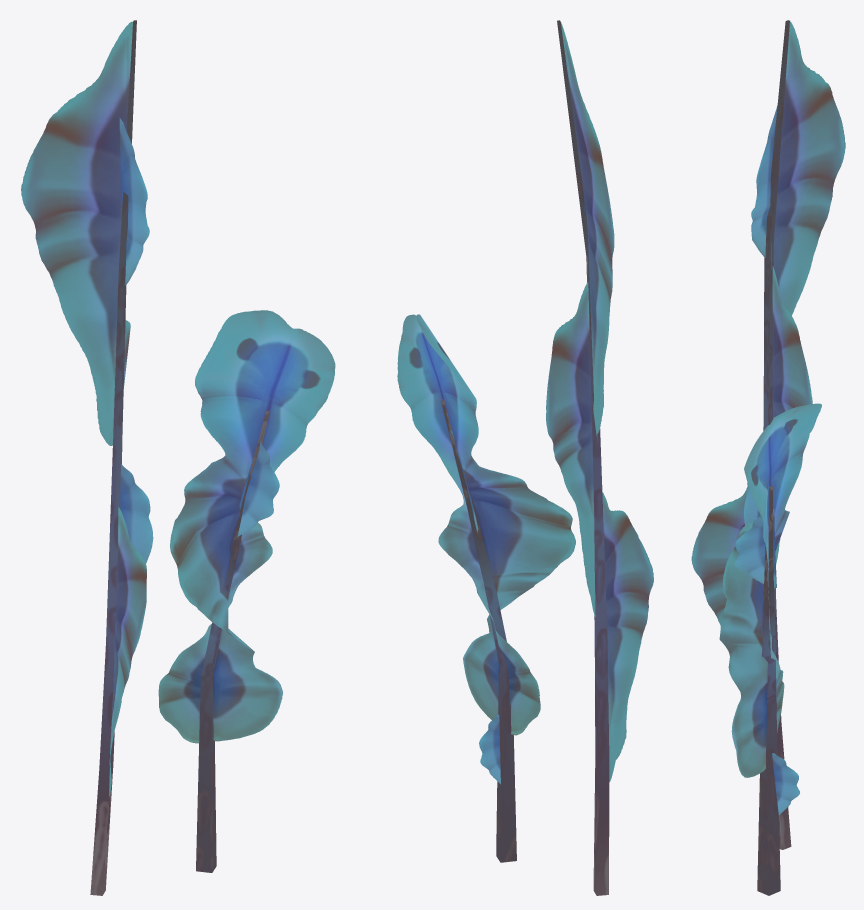
File: blue_mamba_4_fix_scaled.fbx
The picture shows the model from 3 angles, left to right: view 1: azimuth 30°, elevation 25°; view 2: azimuth 150°, elevation 25°; view 3: azimuth 270°, elevation 25°; orthographic projection. The views are drawn at different scales.
Visible parts, largest first — view 1: blue_mamba_4_LOD0; view 2: blue_mamba_4_LOD0; view 3: blue_mamba_4_LOD0.
Part boxes in pixels (x1,y1,x2,y2): blue_mamba_4_LOD0: (21, 20, 335, 895); blue_mamba_4_LOD0: (397, 20, 653, 895); blue_mamba_4_LOD0: (691, 20, 845, 895).
Size of what is drawn, in the model's own units: 137 by 395 by 68.13.
